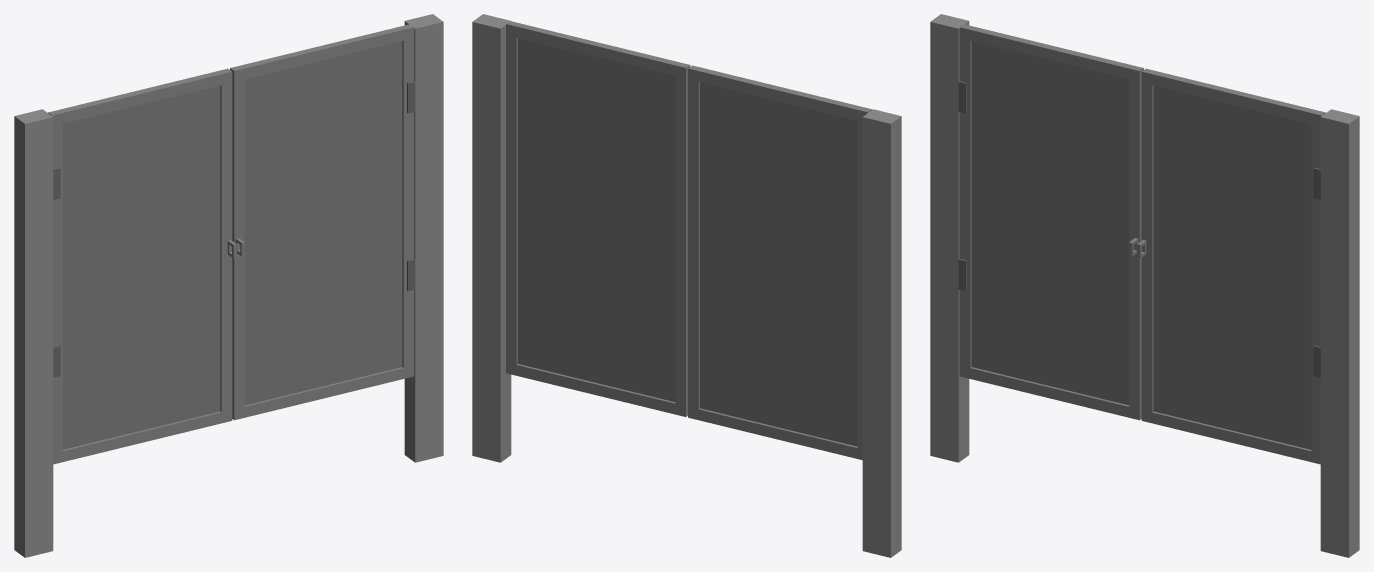
File: Трава 1.fbx
The picture shows the model from 3 angles, left to right: view 1: azimuth 30°, elevation 25°; view 2: azimuth 150°, elevation 25°; view 3: azimuth 330°, elevation 25°; orthographic projection.
Parts seen in each view (by area): view 1: Куб.032, Куб.033, Куб.030; view 2: Куб.032, Куб.033, Куб.030; view 3: Куб.033, Куб.032, Куб.030.
Part boxes in pixels (left/top/right/bottom): Куб.032: left=230, top=24, right=414, bottom=420; Куб.033: left=48, top=68, right=236, bottom=464; Куб.030: left=14, top=14, right=443, bottom=557; Куб.032: left=506, top=21, right=690, bottom=416; Куб.033: left=688, top=65, right=872, bottom=460; Куб.030: left=472, top=14, right=901, bottom=557; Куб.033: left=959, top=24, right=1143, bottom=420; Куб.032: left=1137, top=68, right=1325, bottom=464; Куб.030: left=930, top=14, right=1359, bottom=557.
Size of the model in its own units: 753 by 747 by 48.74.
